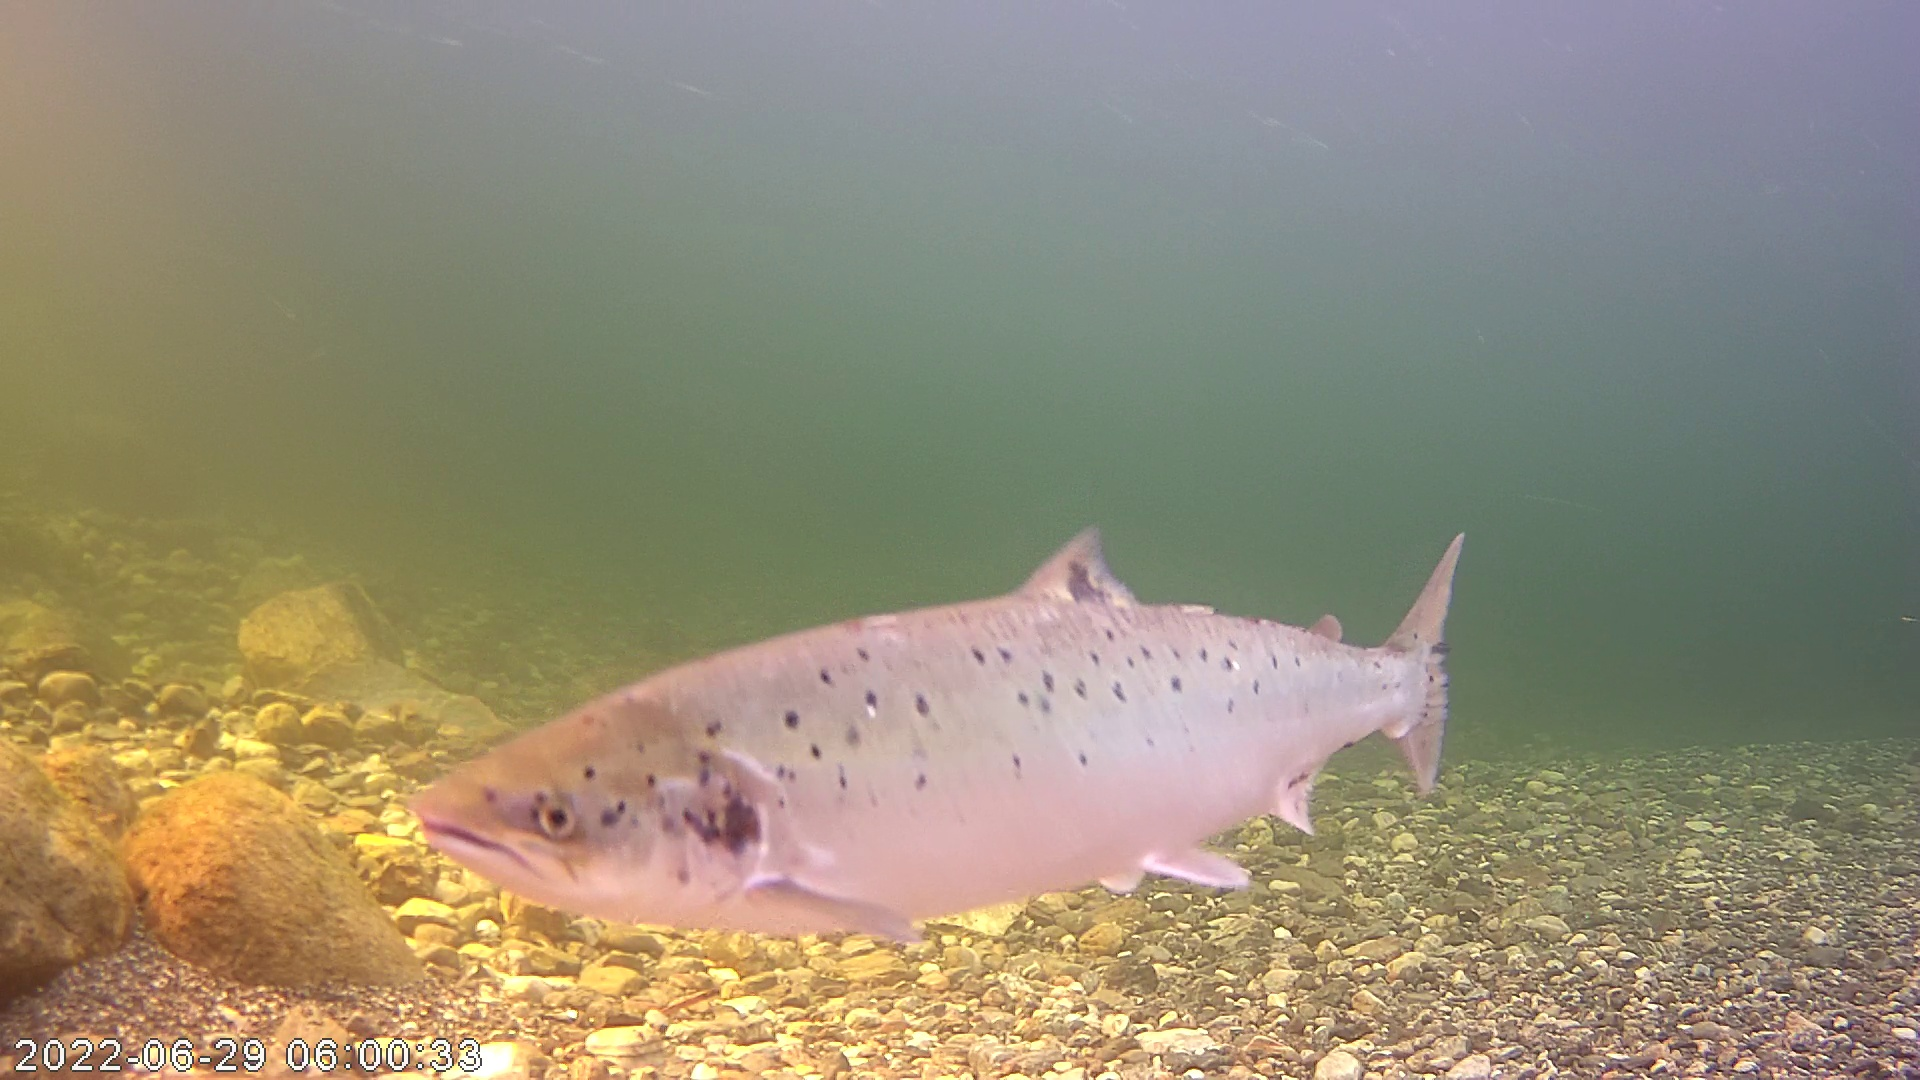salmon: (396, 451, 1452, 942)
